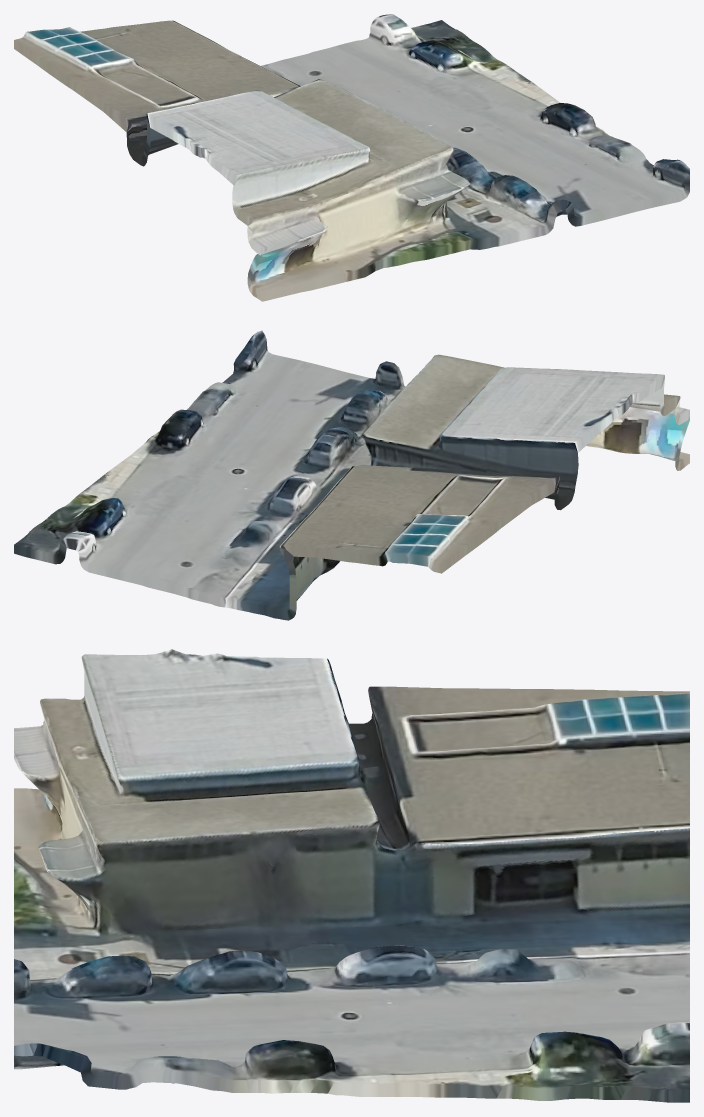
The model's file is z20-167736-405193-h0-yup-uvflip-v3-world.glb.
3 views of the same model, one above another, from view 1: azimuth 30°, elevation 25°; view 2: azimuth 150°, elevation 25°; view 3: azimuth 270°, elevation 25° (orthographic). The views are drawn at different scales.
Bounding box in the file's own units: 30.16 × 8.56 × 30.32.
1 material, 1 textured.
